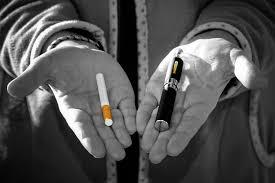smoke: (95, 72, 114, 127)
